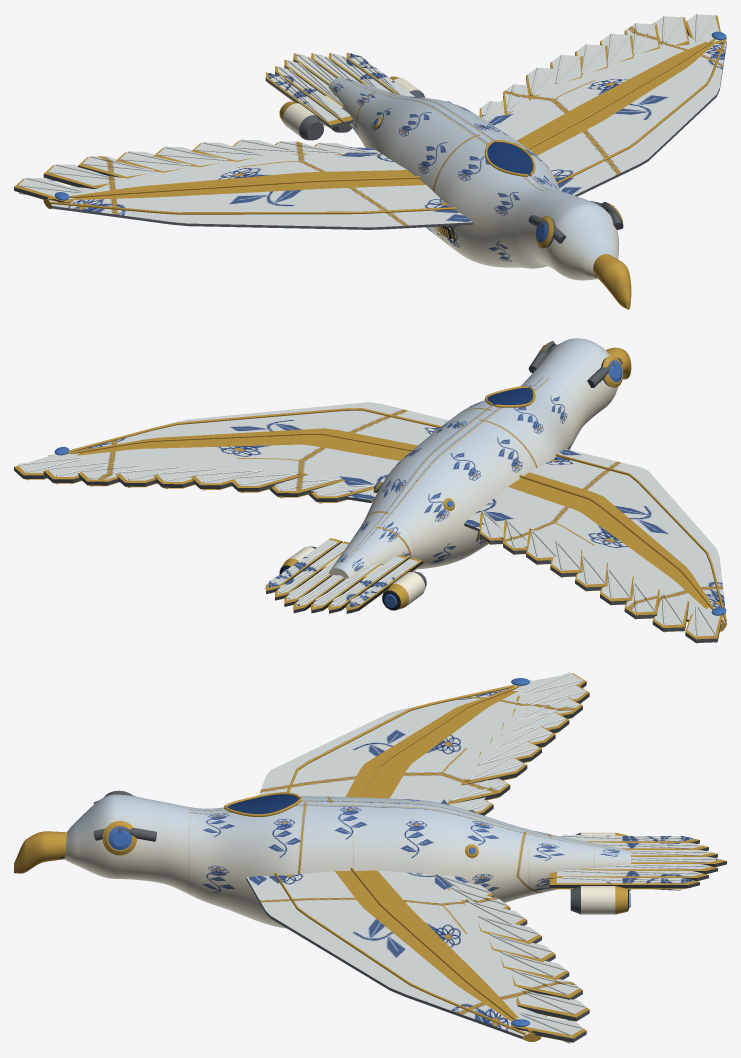
3 renders of one model, top to bottom at view 1: azimuth 30°, elevation 25°; view 2: azimuth 150°, elevation 25°; view 3: azimuth 270°, elevation 25°, orthographic. The views are drawn at different scales.
Visible parts, largest first — view 1: falcon_hull; view 2: falcon_hull; view 3: falcon_hull.
Part boxes in pixels (x1,y1,x2,y2): falcon_hull: (14, 14, 726, 309); falcon_hull: (14, 338, 726, 643); falcon_hull: (14, 672, 726, 1043).
Bounding box in the file's own units: 68 × 10.83 × 56.07.
1 material, 1 textured.
